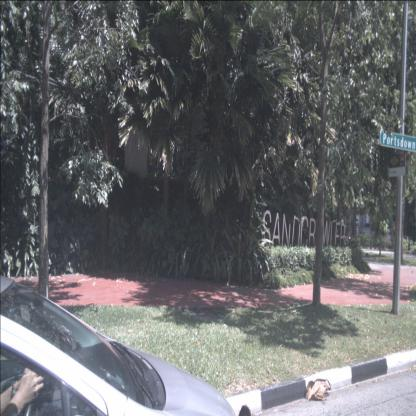vehicle-car: (0, 275, 235, 416)
